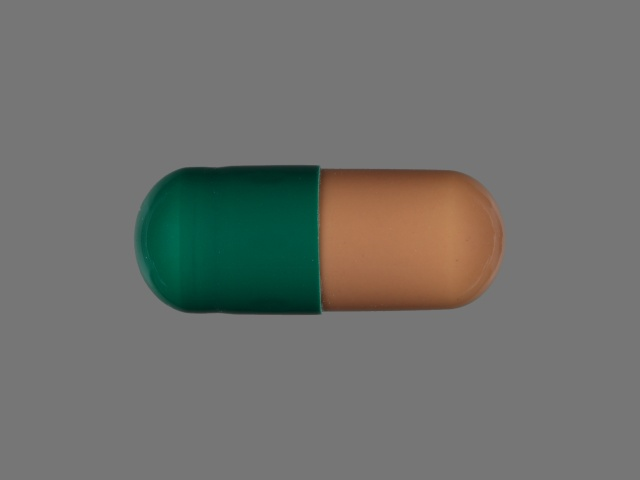capsule: (131, 161, 511, 317)
